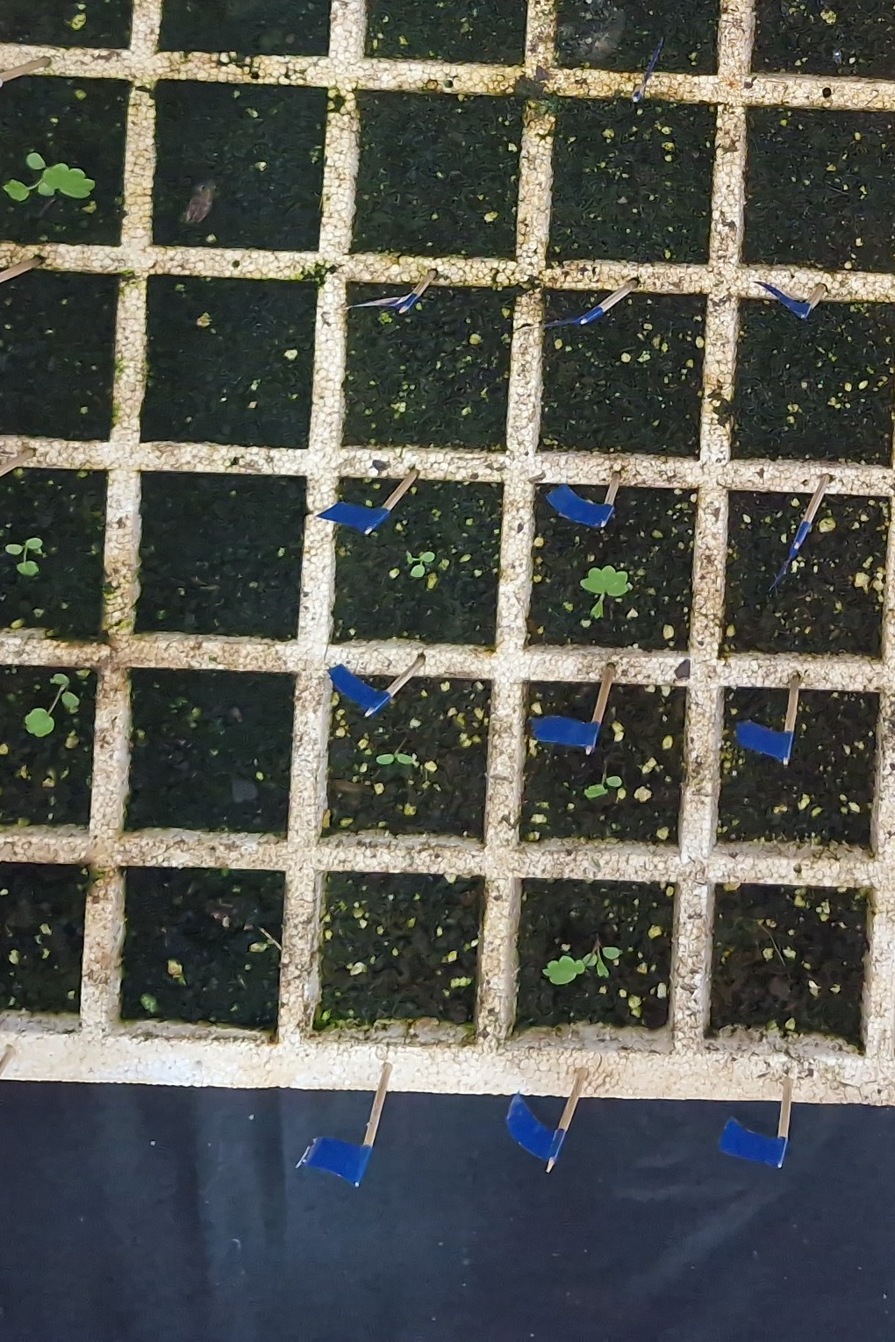Folha: (43, 163, 94, 198), (580, 565, 627, 596), (543, 956, 585, 984), (26, 709, 54, 736), (3, 179, 28, 200), (584, 784, 608, 798), (17, 561, 39, 575), (27, 153, 46, 169), (39, 181, 55, 196), (62, 693, 79, 707), (590, 601, 603, 619), (597, 959, 609, 978), (582, 952, 597, 966), (603, 947, 619, 959), (376, 755, 394, 765), (397, 753, 413, 764), (606, 776, 622, 787), (411, 565, 425, 577), (7, 544, 24, 553), (54, 674, 69, 684), (27, 539, 42, 549)
Germinacao: (4, 153, 95, 200), (542, 934, 620, 984), (25, 674, 78, 736), (580, 565, 628, 619), (6, 537, 43, 575), (584, 773, 622, 799), (376, 737, 412, 764), (406, 551, 435, 577)
